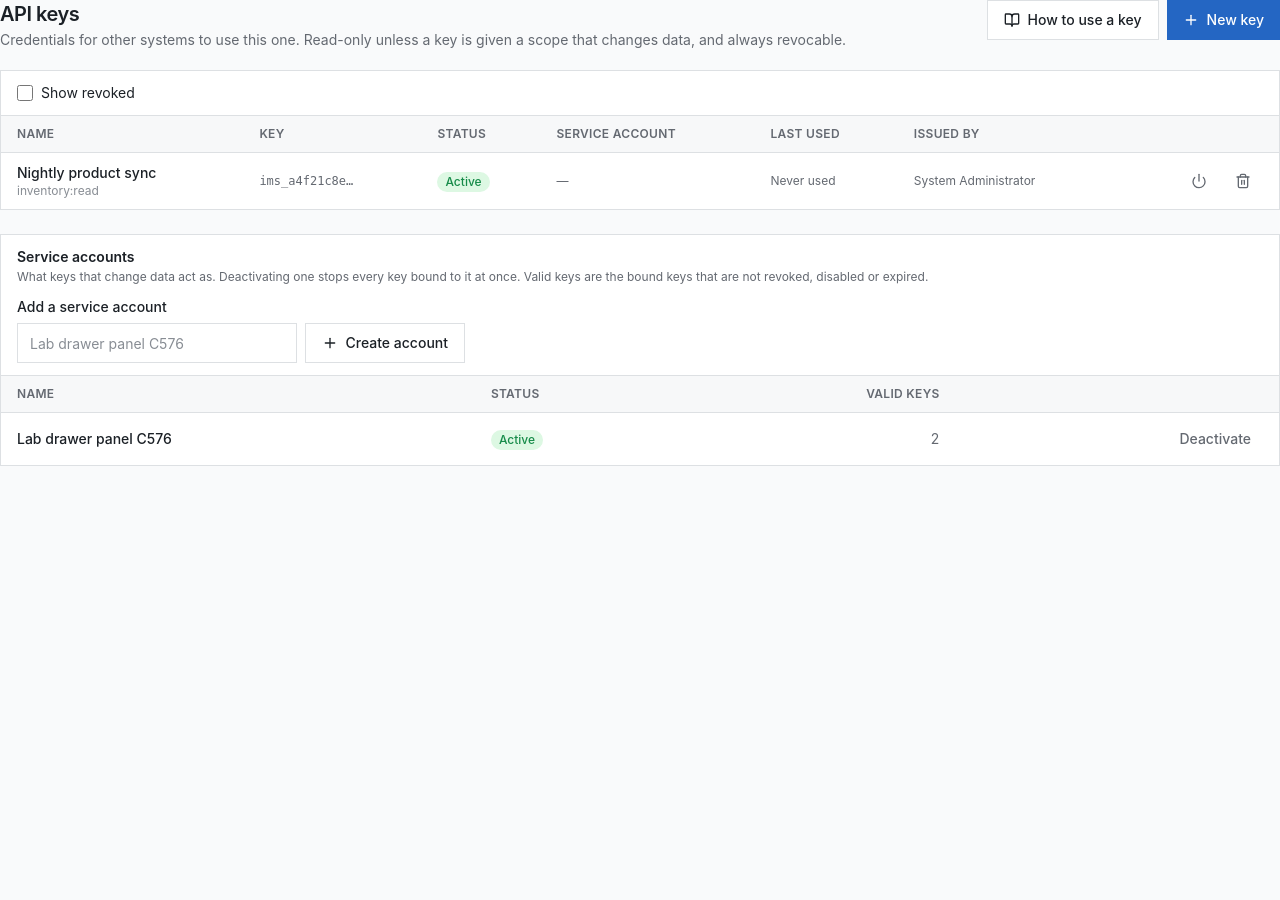
Test case: ApiKeysPage › scopes that change data › offers all five scopes, and marks the four that change data
Click the button "New key" at (1223, 20), box top-left (1166, 0), bottom-right (1279, 40)
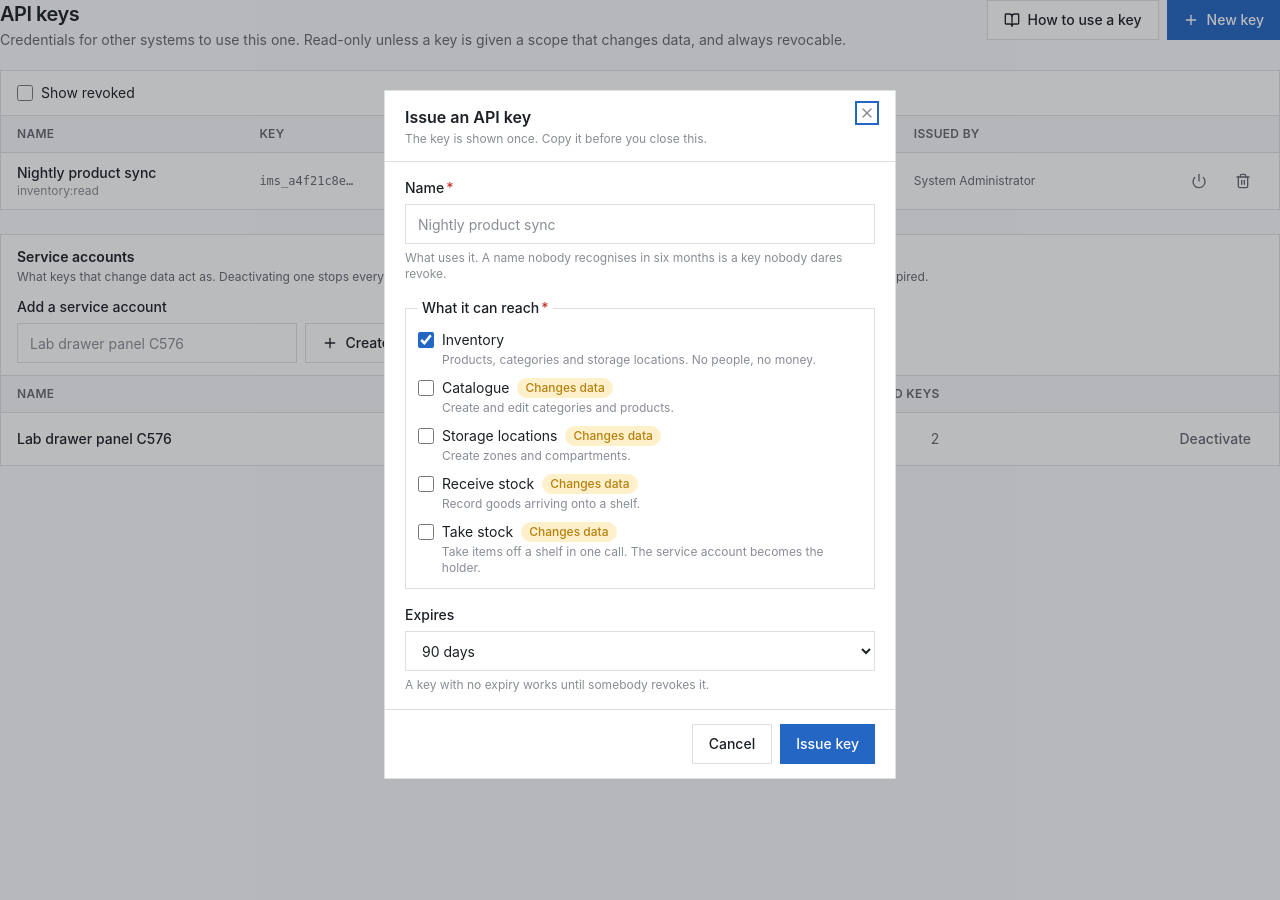
Now the checkbox labelled "Catalogue Changes data" is shown, box top-left (418, 380), bottom-right (434, 396)
Now the checkbox labelled "Storage locations Changes data" is shown, box top-left (418, 428), bottom-right (434, 444)
Now the checkbox labelled "Receive stock Changes data" is shown, box top-left (418, 476), bottom-right (434, 492)
